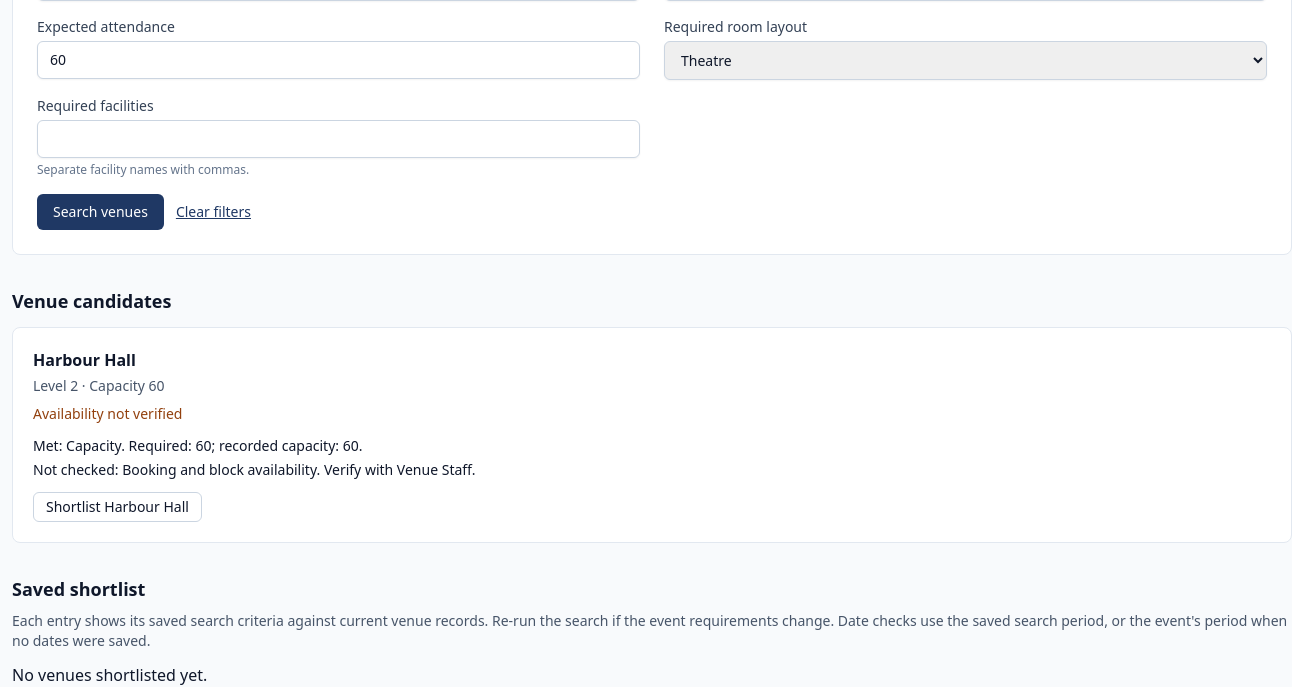
Scenario: SCRUM-64/68 venue discovery › refreshes server state when a save succeeds but its response is lost
(page scrolled)
Click the button "Shortlist Harbour Hall": (117, 507) [33, 492, 202, 522]
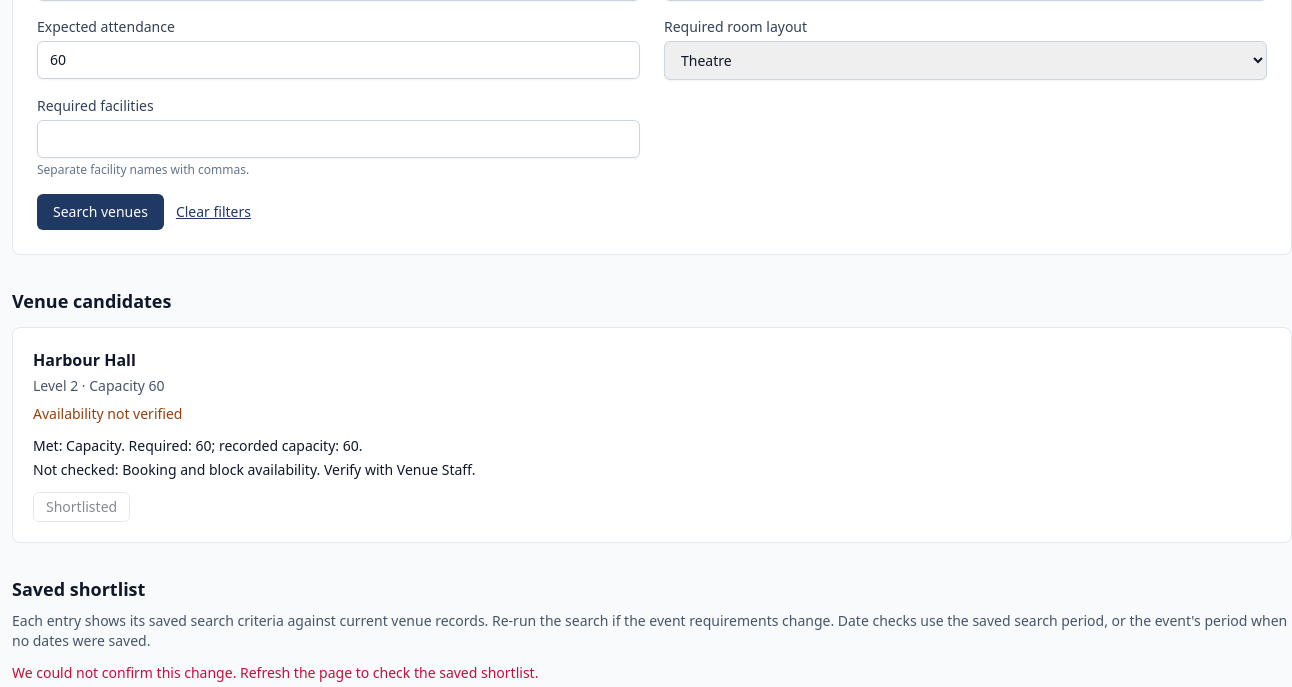
Expected: the message shows "could not confirm this change", [12, 663, 538, 682]
Expected: the button "Shortlisted" is disabled, [33, 492, 130, 522]
